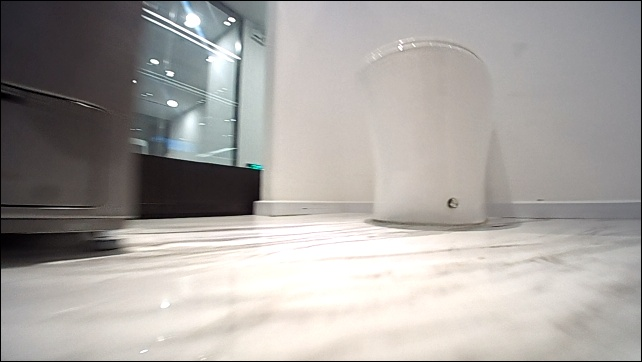toilet: (353, 35, 496, 228)
